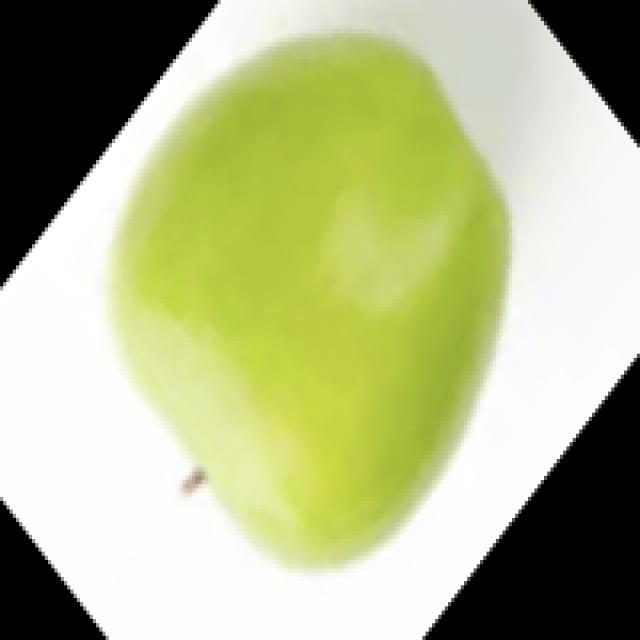Fresh Apple: (106, 31, 514, 570)
